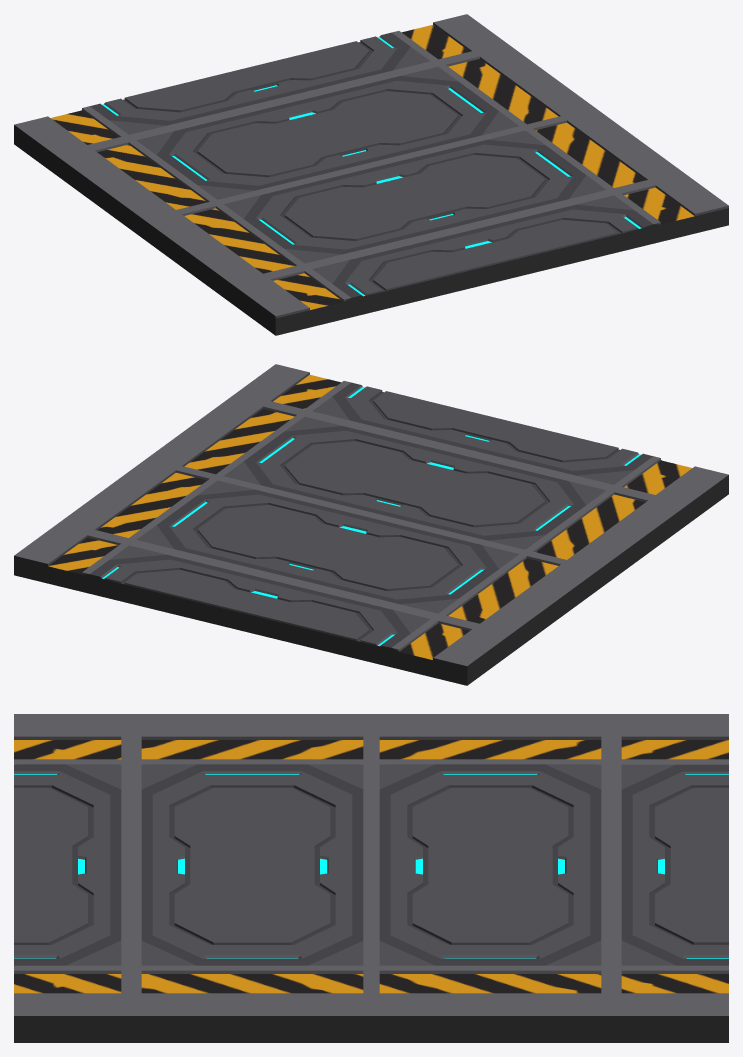
File: SM_Bld_Floor_01.fbx
3 views of the same model, one above another, from view 1: azimuth 30°, elevation 25°; view 2: azimuth 150°, elevation 25°; view 3: azimuth 270°, elevation 25° (orthographic). The views are drawn at different scales.
Visible parts, largest first — view 1: SM_Bld_Floor_01_LOD0; view 2: SM_Bld_Floor_01_LOD0; view 3: SM_Bld_Floor_01_LOD0.
Part boxes in pixels (box(x1,y1,x2,y2)): SM_Bld_Floor_01_LOD0: box(14, 14, 728, 335); SM_Bld_Floor_01_LOD0: box(14, 364, 728, 685); SM_Bld_Floor_01_LOD0: box(14, 714, 728, 1042).
Size of the model in its own units: 500 by 500 by 20.68.
1 material, 1 textured.
